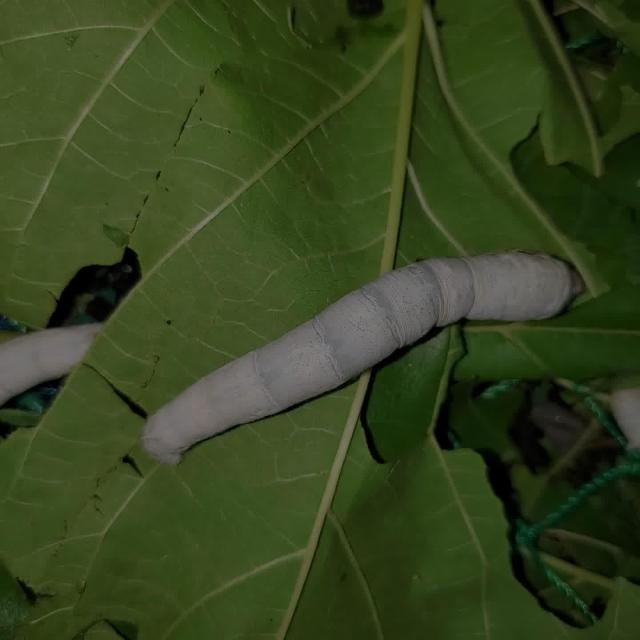Healthy: (138, 221, 600, 489)
